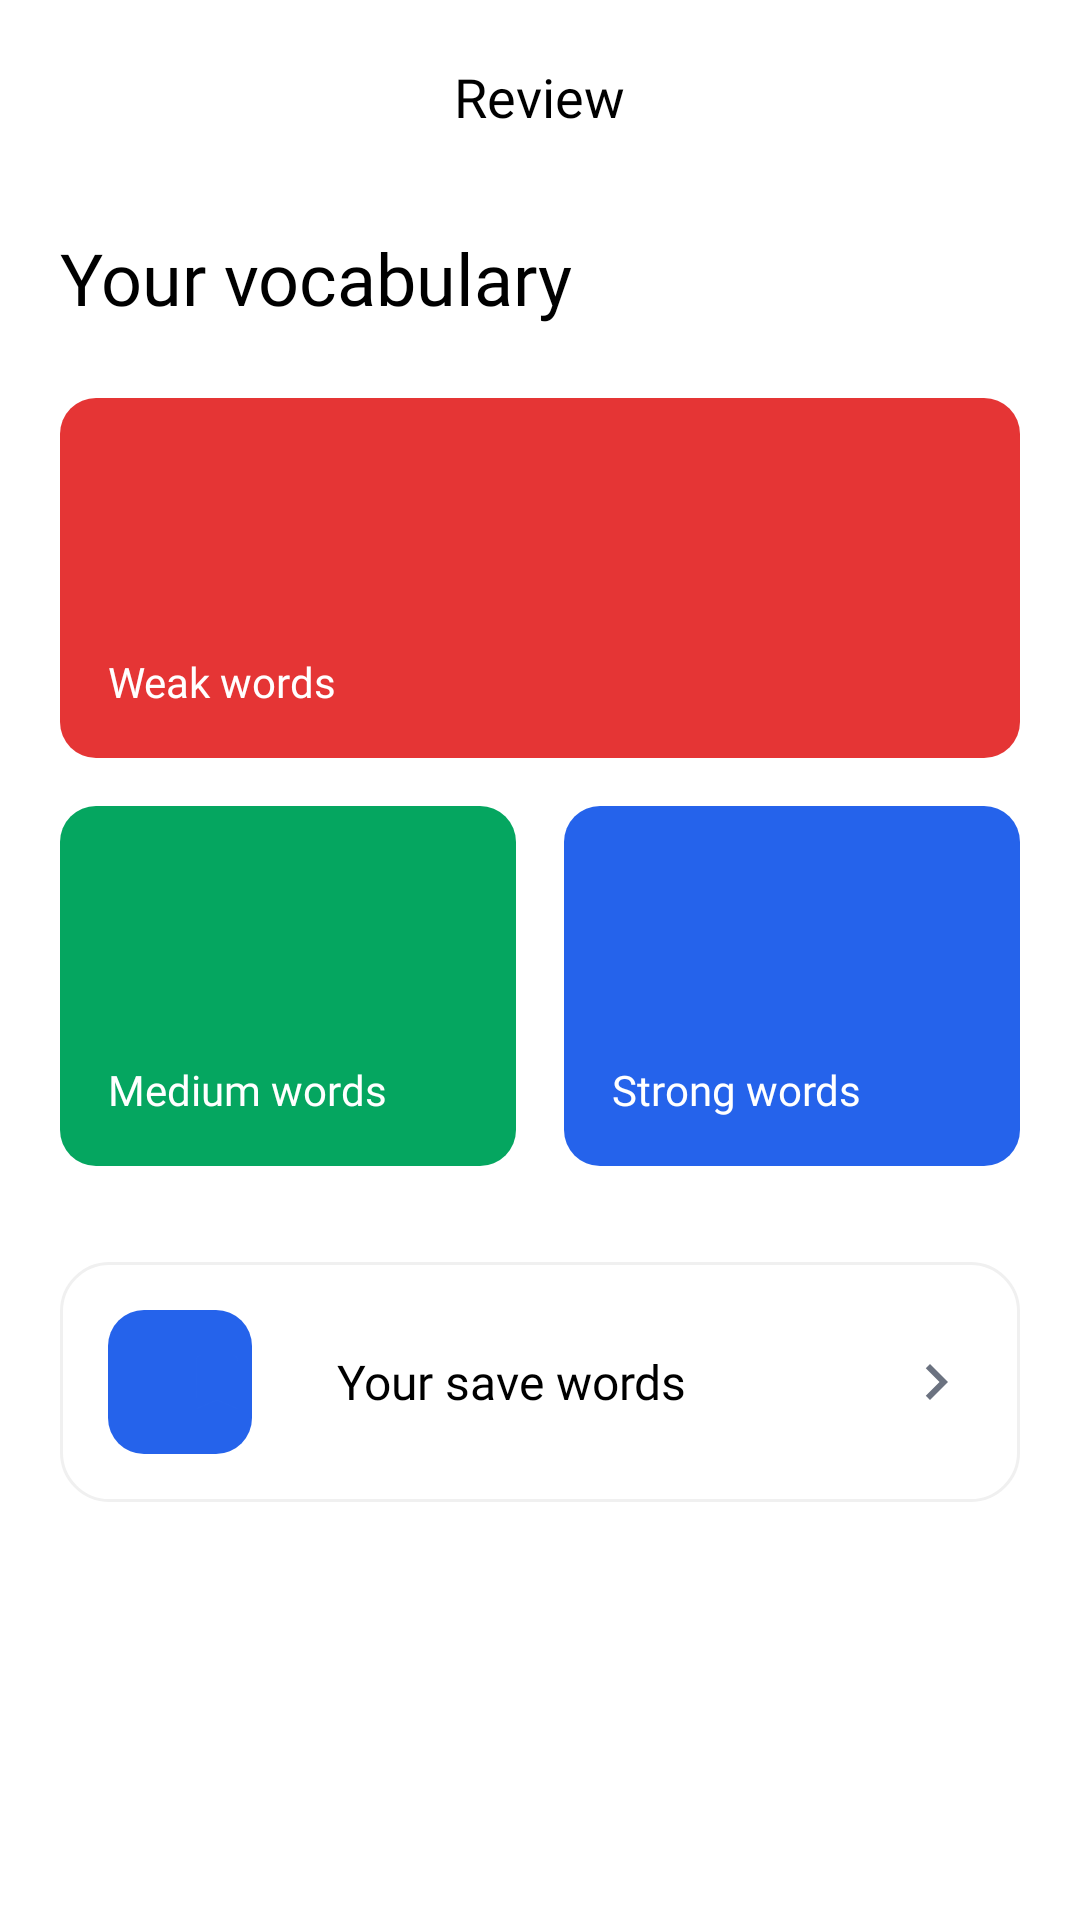

Screen size 1080px×1920px. Icon name, then its center in pixels as point (x, y):
arrow right: point (937, 1382)
